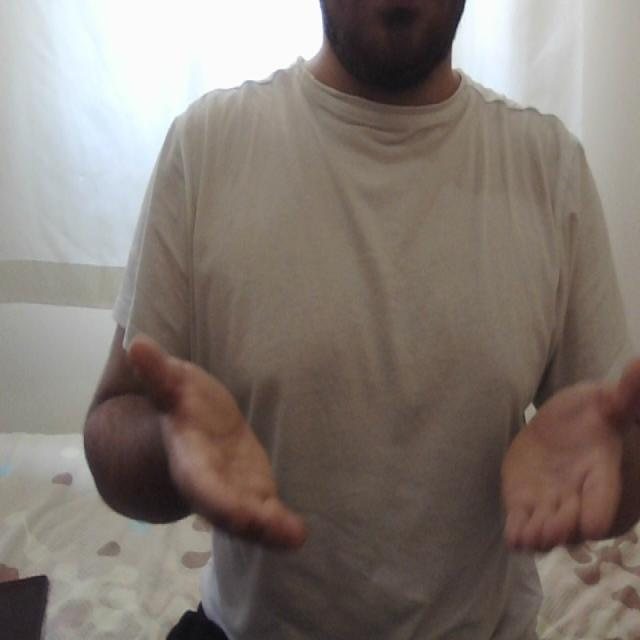Evet: (122, 327, 640, 561)
